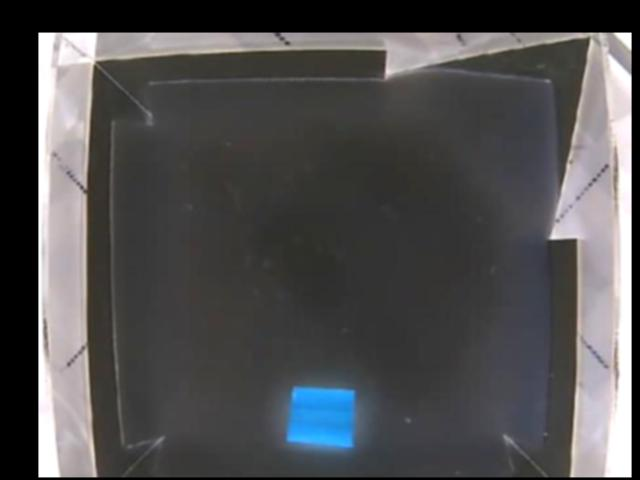Carrot: (283, 385, 360, 448)
